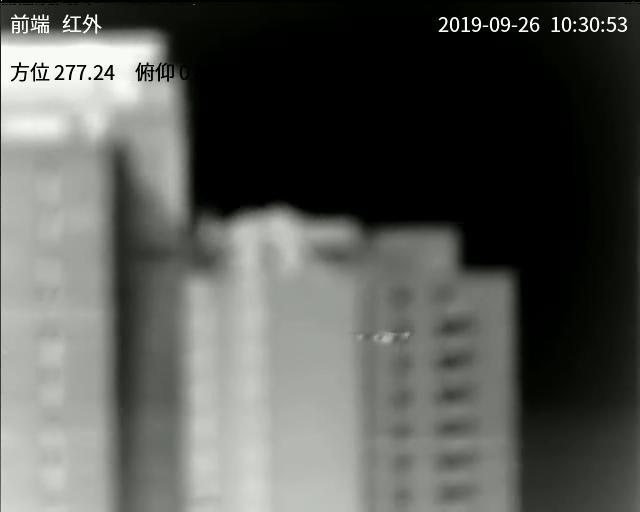uav: (352, 325, 418, 350)
